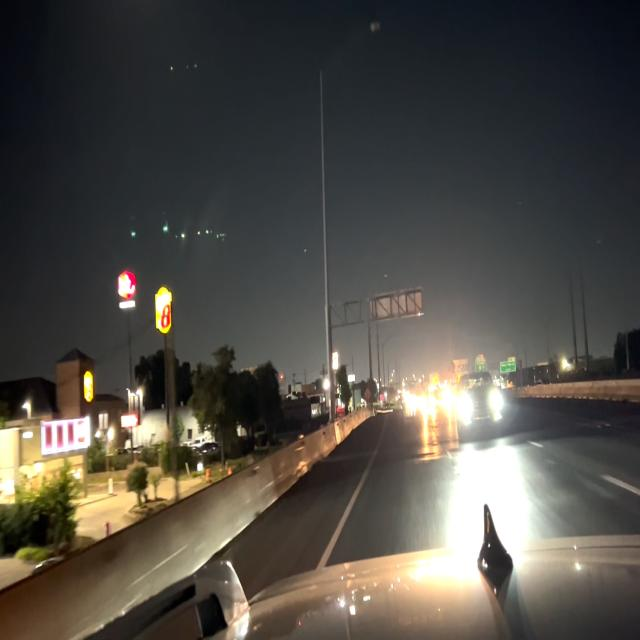back-of-sign: (368, 287, 427, 325)
